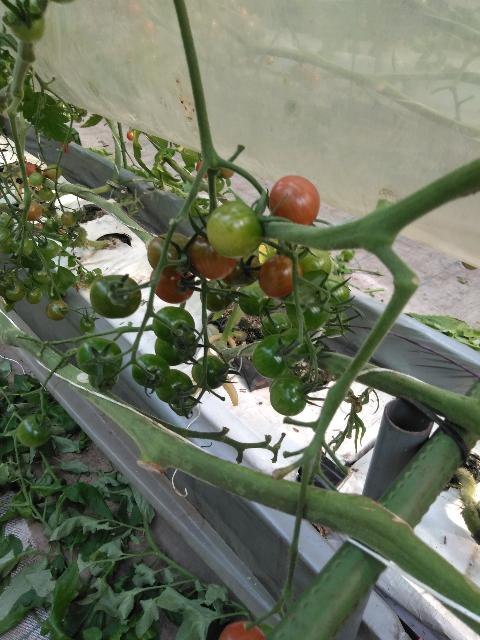l_fully_ripened: (269, 175, 321, 226), (150, 269, 196, 304), (218, 621, 266, 640), (25, 164, 41, 179)
l_green: (206, 200, 265, 259), (89, 274, 142, 320), (251, 334, 299, 379), (76, 337, 123, 378), (285, 292, 331, 332), (152, 306, 196, 344), (8, 2, 46, 42), (270, 375, 307, 416), (155, 368, 194, 405), (131, 353, 170, 389), (155, 334, 197, 367), (16, 413, 53, 448), (200, 279, 238, 313), (238, 282, 274, 317), (191, 355, 227, 390), (290, 249, 332, 275), (280, 327, 310, 363), (318, 308, 349, 338), (321, 275, 350, 307), (261, 313, 292, 337), (89, 371, 119, 390), (172, 395, 194, 417), (12, 237, 33, 257), (39, 239, 59, 259), (0, 226, 13, 254), (6, 283, 25, 302), (33, 266, 52, 284), (26, 286, 43, 304), (0, 213, 15, 232), (45, 164, 62, 180), (80, 315, 95, 333), (60, 212, 76, 227), (40, 203, 56, 218), (29, 172, 44, 187), (44, 219, 59, 234), (39, 188, 54, 202), (216, 176, 225, 193)
l_half_ripened: (189, 235, 236, 281), (258, 253, 303, 300), (147, 232, 193, 275), (221, 252, 260, 286), (17, 201, 42, 222), (47, 301, 67, 321), (219, 167, 235, 179)
